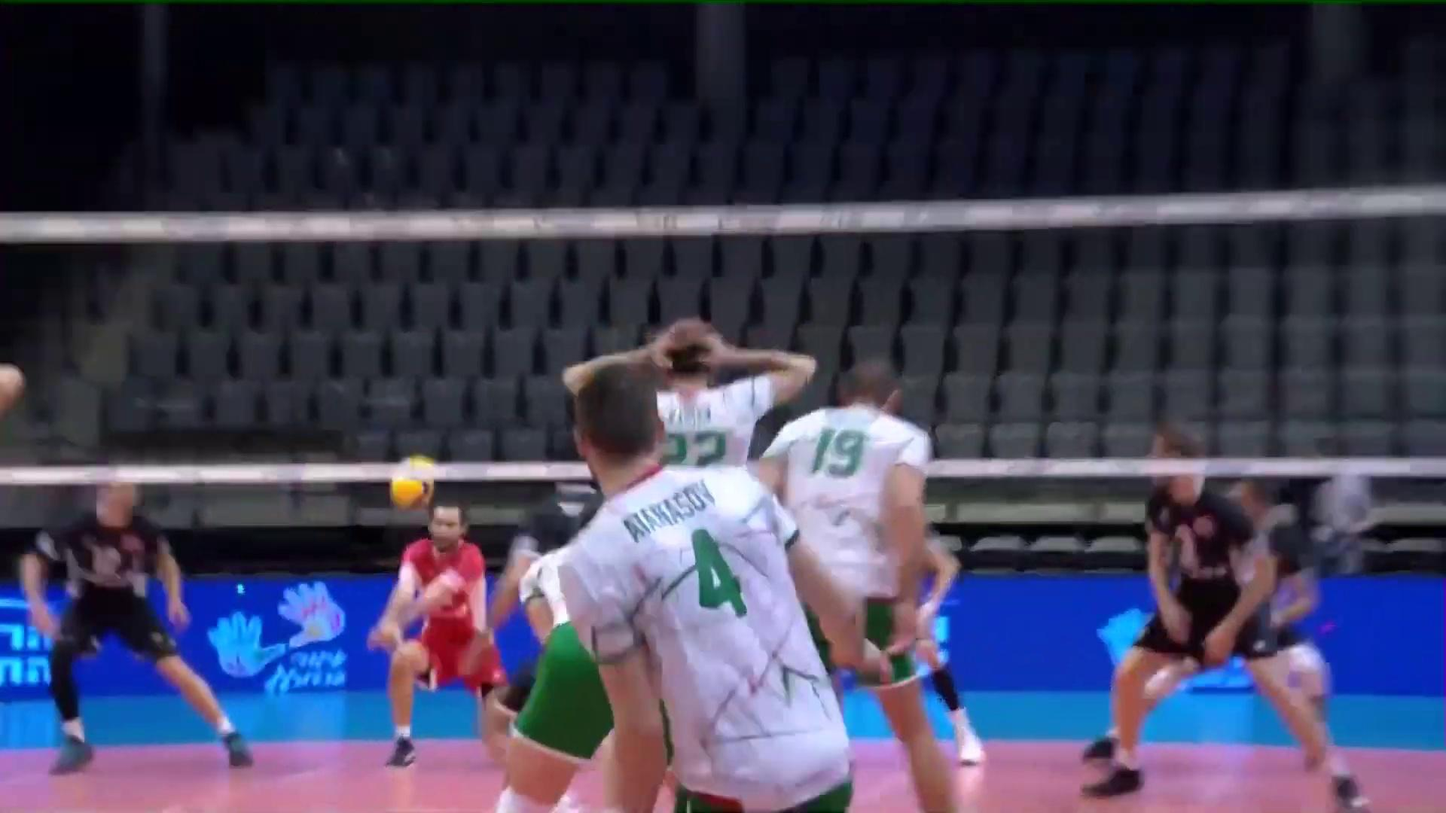ball: (389, 456, 442, 517)
